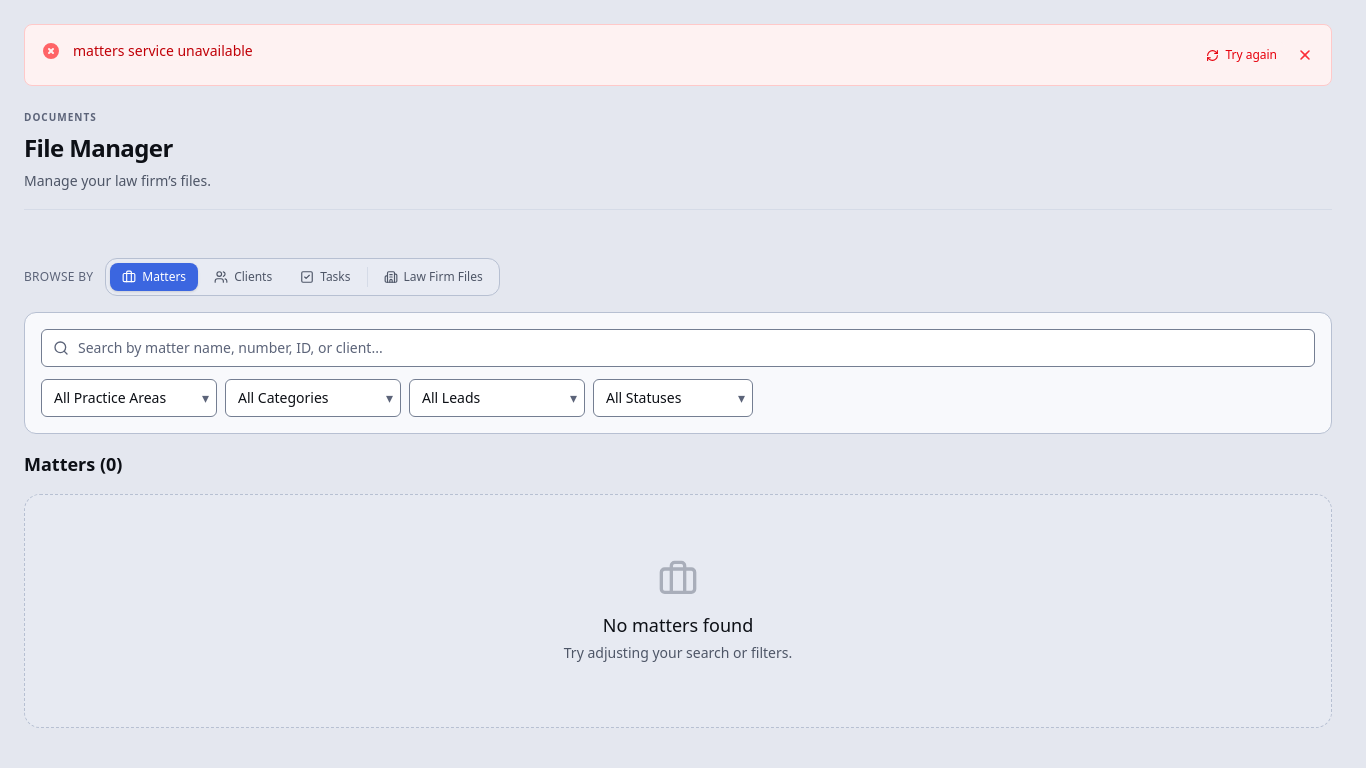
Test: an API failure › keeps the rest of the dashboard usable and recovers once retrying succeeds
Check: the message shows "matters service unavailable", box top-left (73, 41), bottom-right (253, 60)
Check: the element named "Browse files by" is shown, box top-left (105, 258), bottom-right (500, 296)
Click the button "Try again" at point(1242, 55), box top-left (1198, 41), bottom-right (1285, 69)
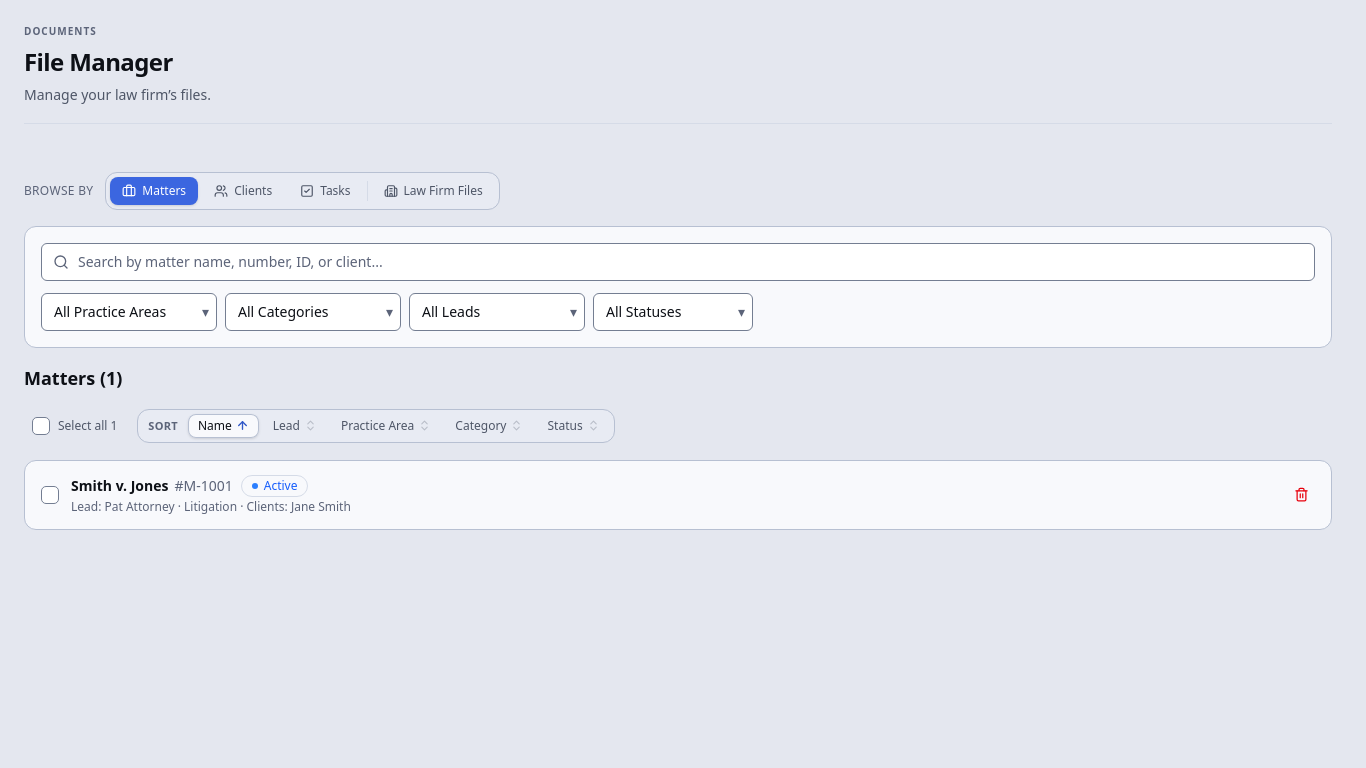
Check: the message "matters service unavailable Try again" is gone
Check: the text "Smith v. Jones" is shown, box top-left (71, 476), bottom-right (168, 495)
